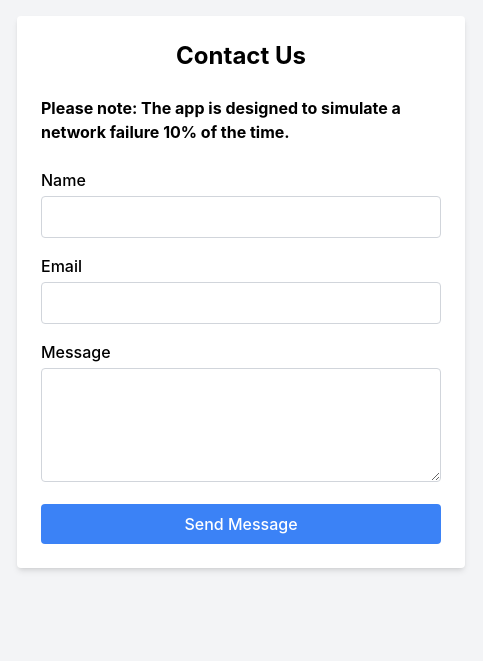
Scenario: ContactForm Component › displays validation errors when form is submitted with empty fields
Click the button "Send Message" at (241, 524), box [41, 504, 441, 544]
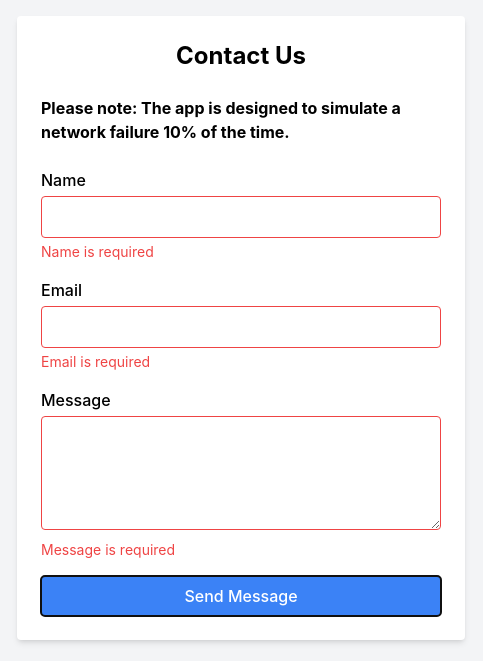
Expected: the text "Name is required" is shown, [41, 243, 154, 260]
Expected: the text "Email is required" is shown, [41, 353, 150, 370]
Expected: the text "Message is required" is shown, [41, 541, 175, 558]
